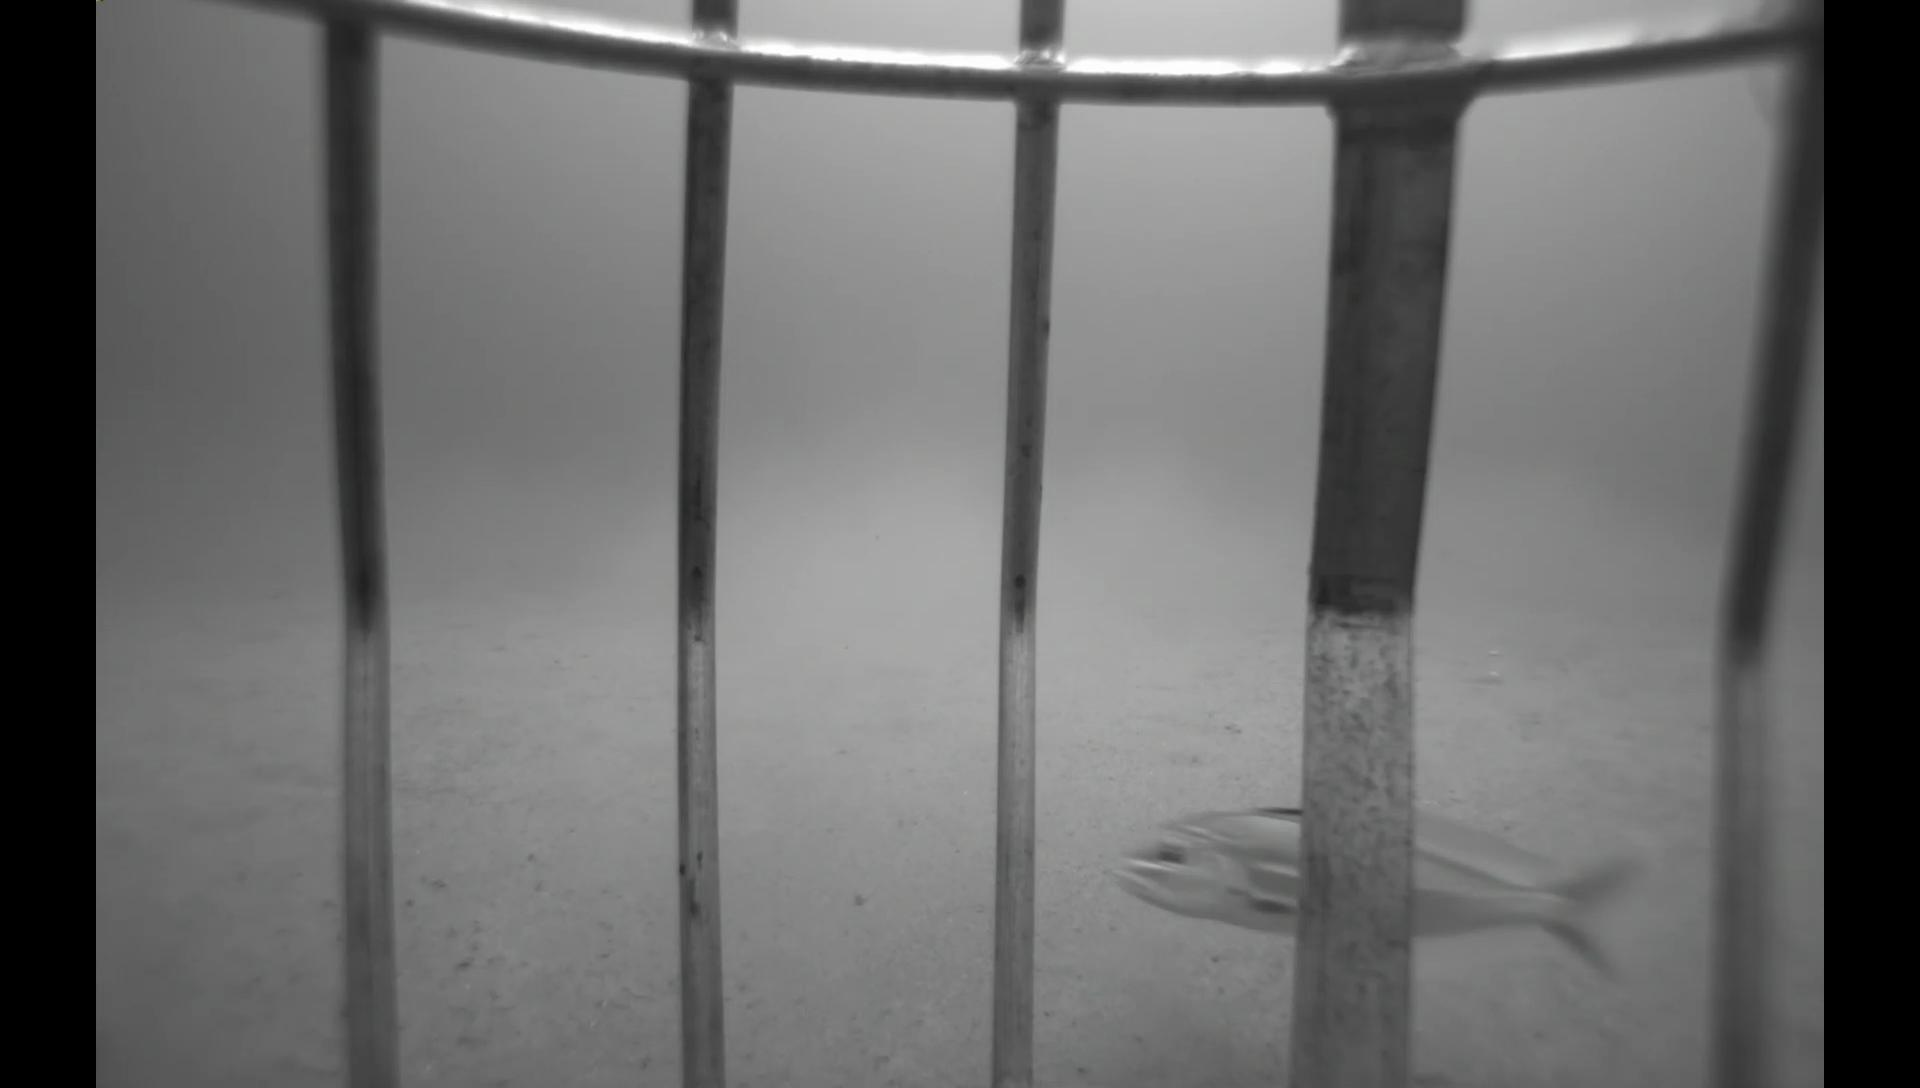CAULOLATILUSCYANOPS-170070101: (1097, 786, 1668, 1013)
SYACIUM-183011000: (1141, 699, 1247, 742)
